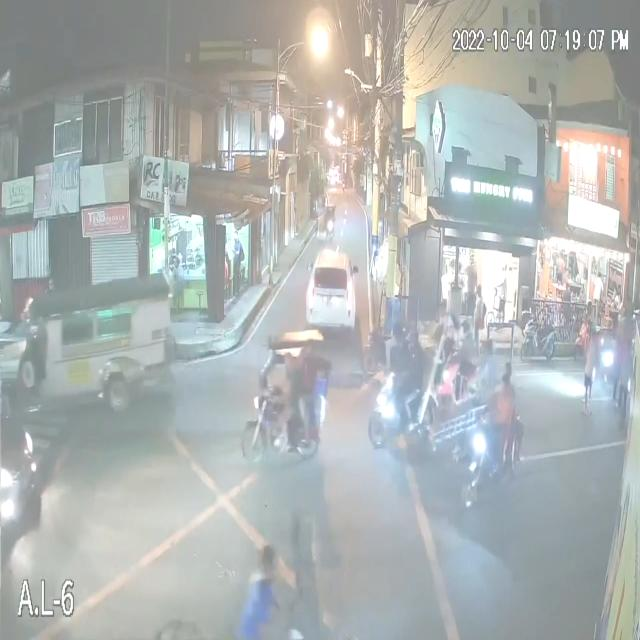Full-Faced: (401, 325, 423, 357)
Half-Faced: (500, 359, 514, 385)
Not-Wearing-Helmet: (254, 539, 276, 581)
